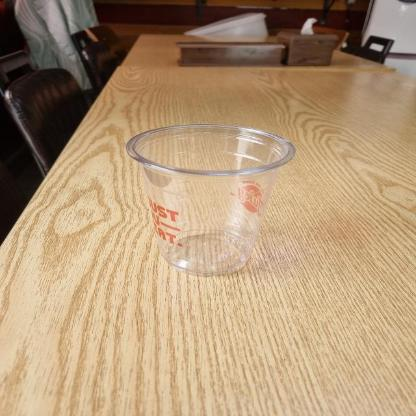Plastic Cup: (122, 120, 298, 278)
